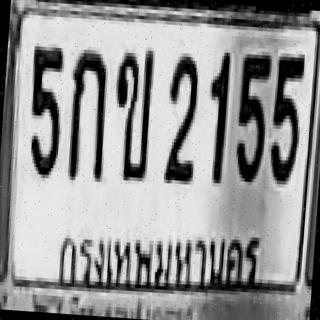A01: (64, 45, 109, 178)
A02: (108, 45, 154, 178)
N01: (202, 48, 230, 180)
N02: (162, 52, 199, 181)
N05: (24, 42, 65, 175), (232, 50, 270, 182), (267, 52, 303, 182)
P04: (48, 213, 270, 312)
